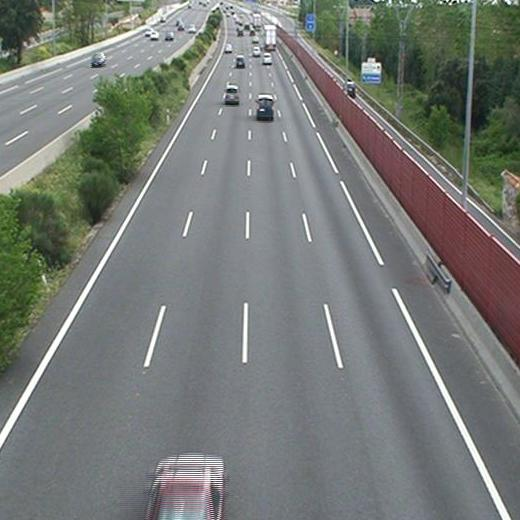car: (225, 85, 240, 103), (262, 53, 272, 64), (235, 56, 245, 66), (224, 43, 232, 53)
truck: (263, 24, 275, 50)
van: (257, 95, 272, 119)
